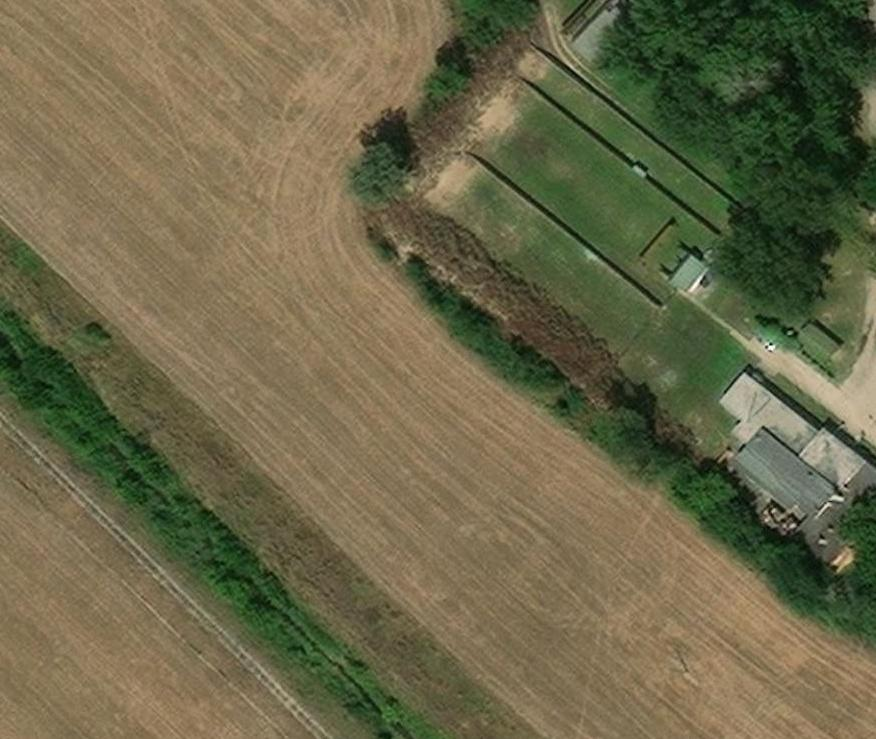field: (0, 3, 876, 737), (0, 409, 344, 735)
forest: (0, 274, 513, 736), (371, 246, 876, 648), (573, 0, 876, 377), (342, 0, 537, 204)
